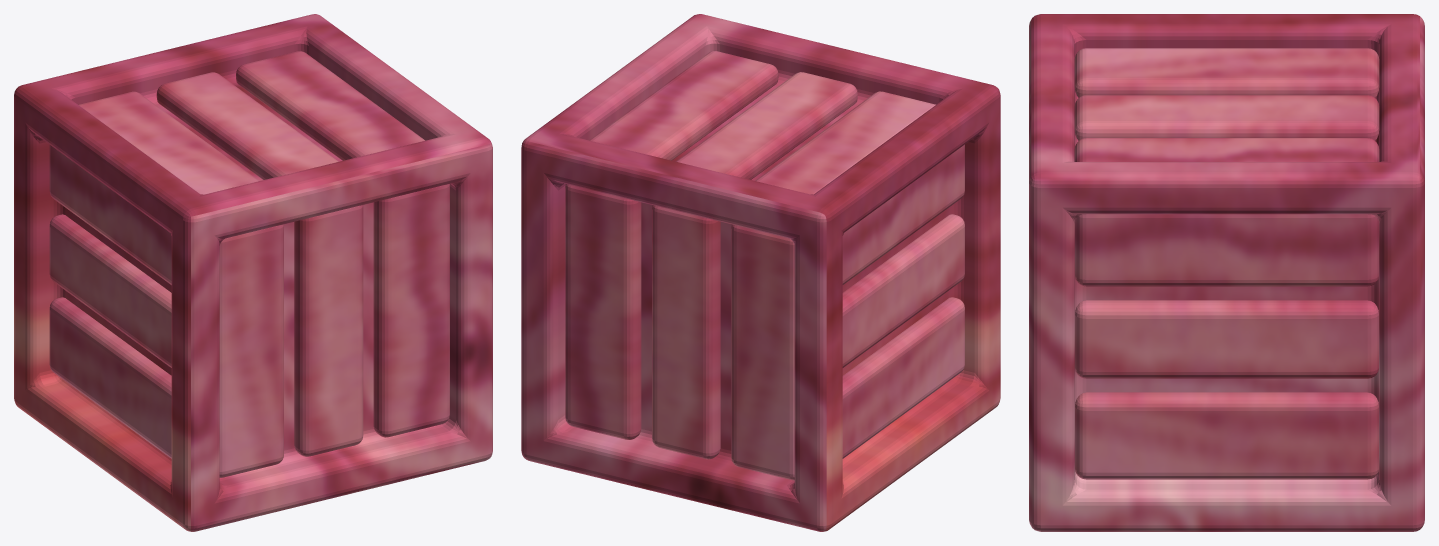
The model's file is Crate.fbx.
3 renders of one model, left to right at view 1: azimuth 30°, elevation 25°; view 2: azimuth 150°, elevation 25°; view 3: azimuth 270°, elevation 25°, orthographic. The views are drawn at different scales.
Parts seen in each view (by area): view 1: Crate; view 2: Crate; view 3: Crate.
Boxes of the visible parts, bbox=[...] form: Crate: bbox=[14, 14, 492, 531]; Crate: bbox=[521, 14, 1000, 531]; Crate: bbox=[1029, 14, 1424, 531].
Bounding box in the file's own units: 200 × 200 × 200.
